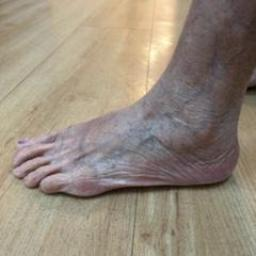Lateral View -Left Foot-: (2, 78, 249, 214)
